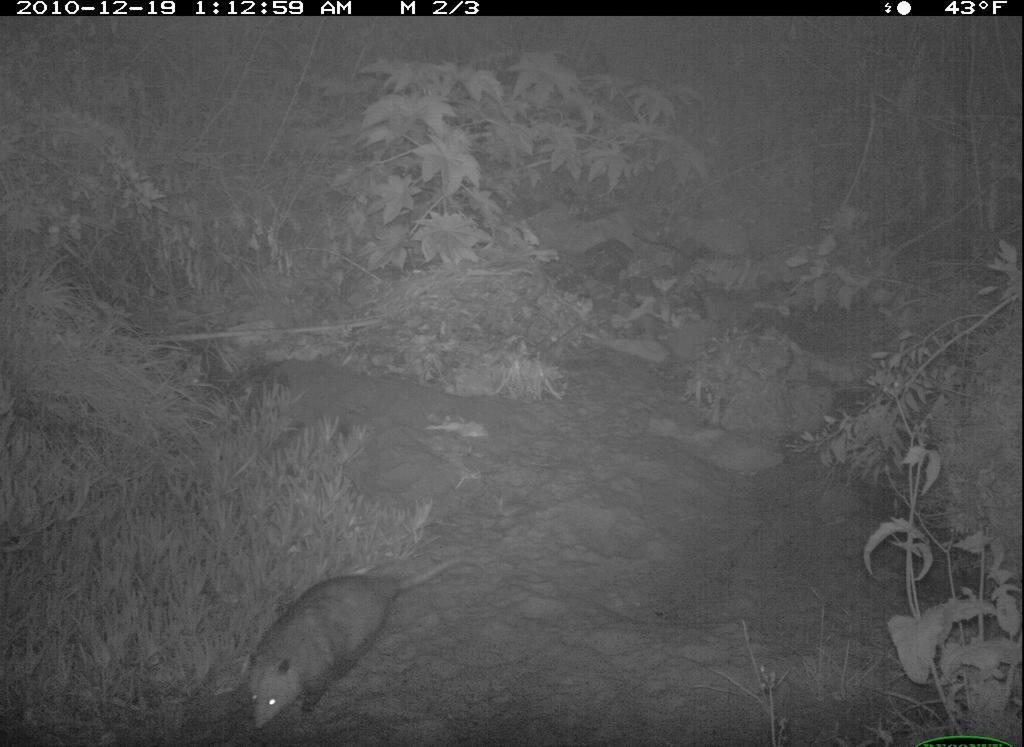opossum: (242, 545, 481, 740)
